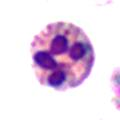neutrophil: (27, 19, 98, 88)
